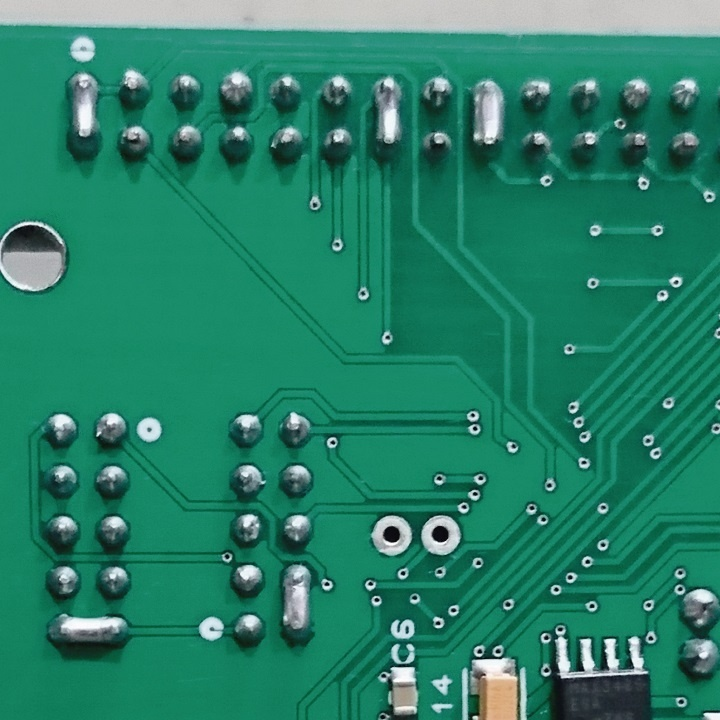F: (418, 510, 465, 563), (367, 511, 415, 560)
P: (59, 67, 107, 171), (42, 609, 136, 652), (468, 74, 510, 164), (275, 562, 318, 647), (368, 69, 408, 160)
